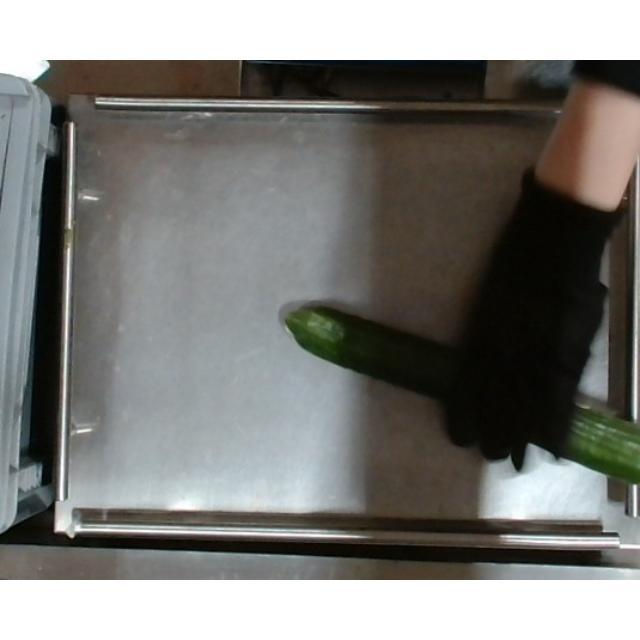cucumber: (284, 302, 640, 478)
